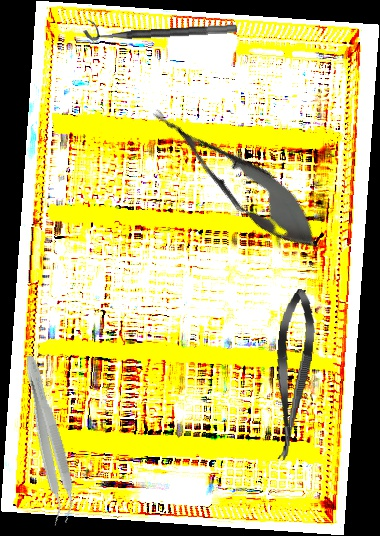Fixation Ring: (82, 10, 238, 43)
Micro Scissor: (136, 90, 337, 267), (266, 287, 319, 462)
Tissue Forceps: (12, 353, 83, 526)
